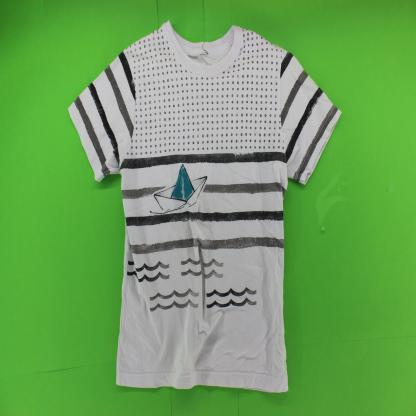hole: (196, 235, 209, 325)
